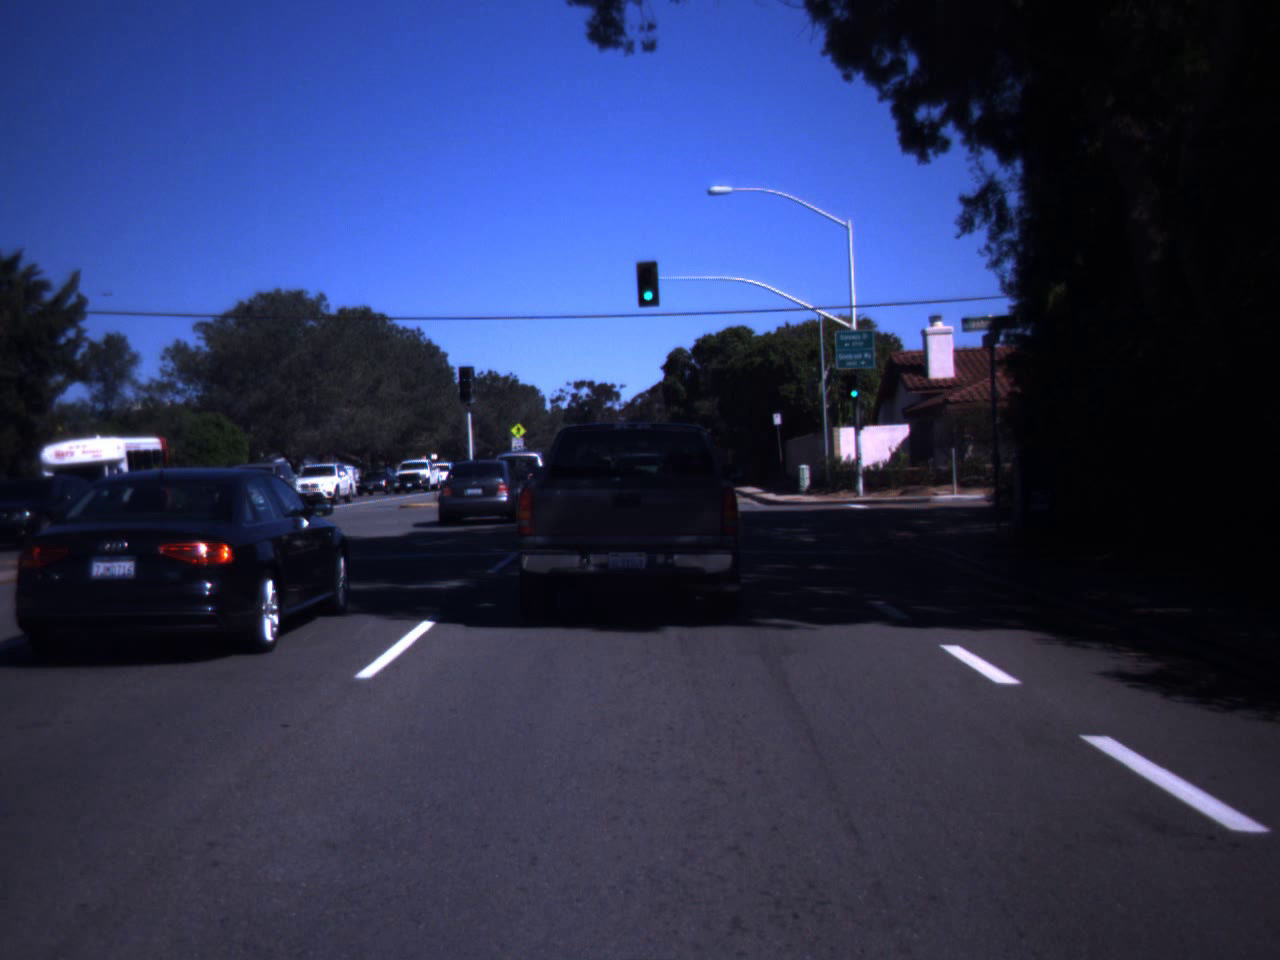go: (636, 264, 660, 304), (847, 378, 862, 398)
